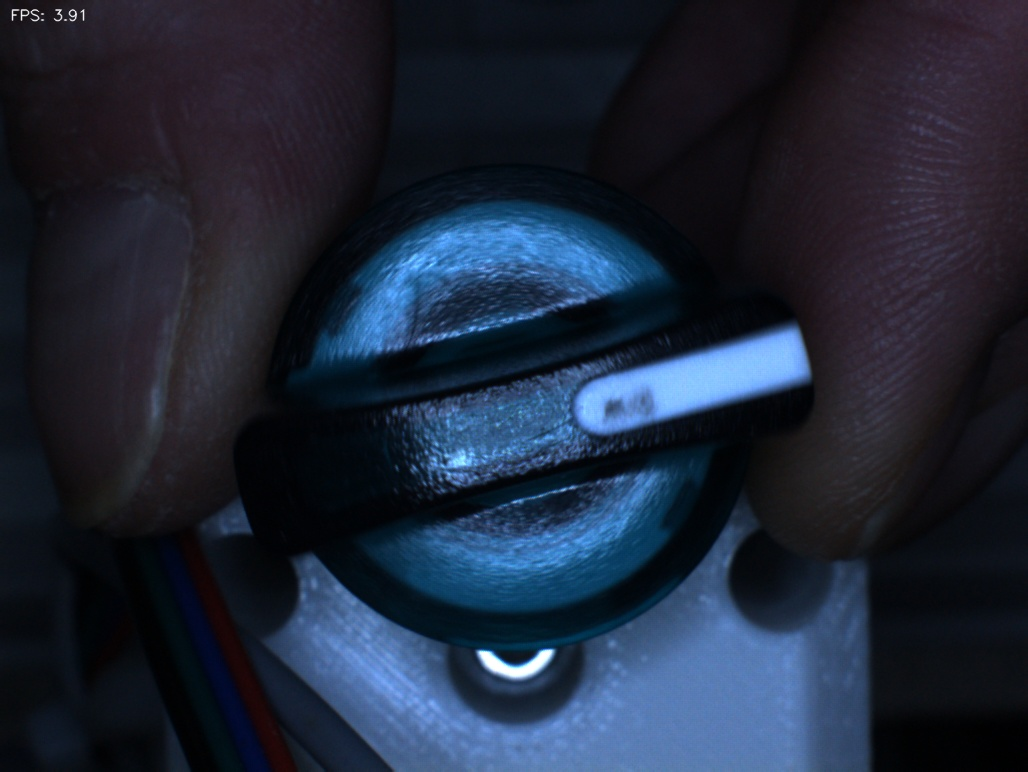PointNoir: (568, 359, 682, 468)
